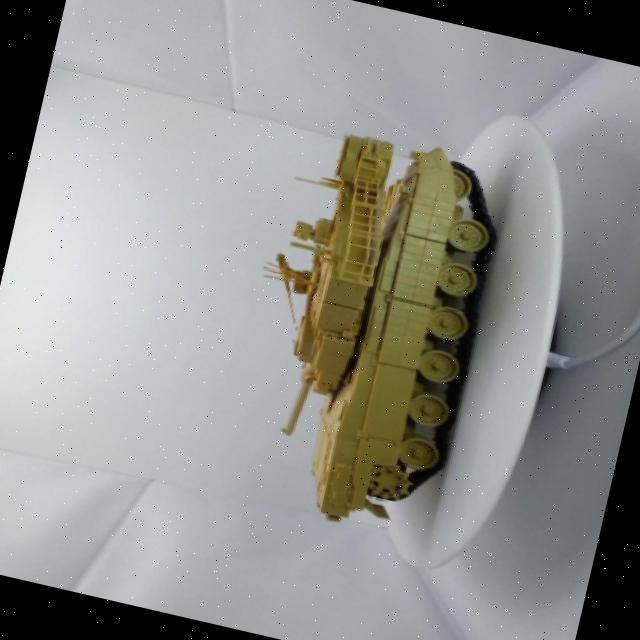korea tank: (200, 93, 540, 565)
